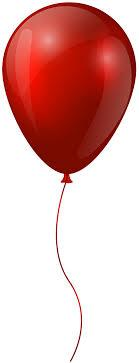red: (2, 2, 134, 182)
